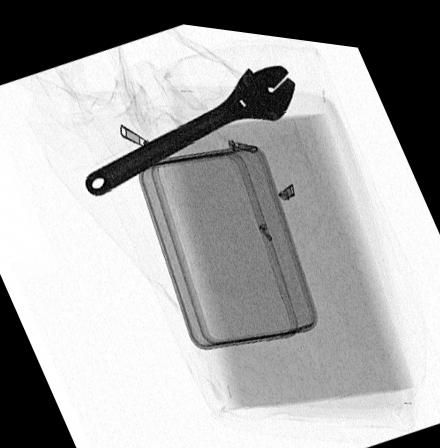Wrench: (86, 57, 295, 196)
